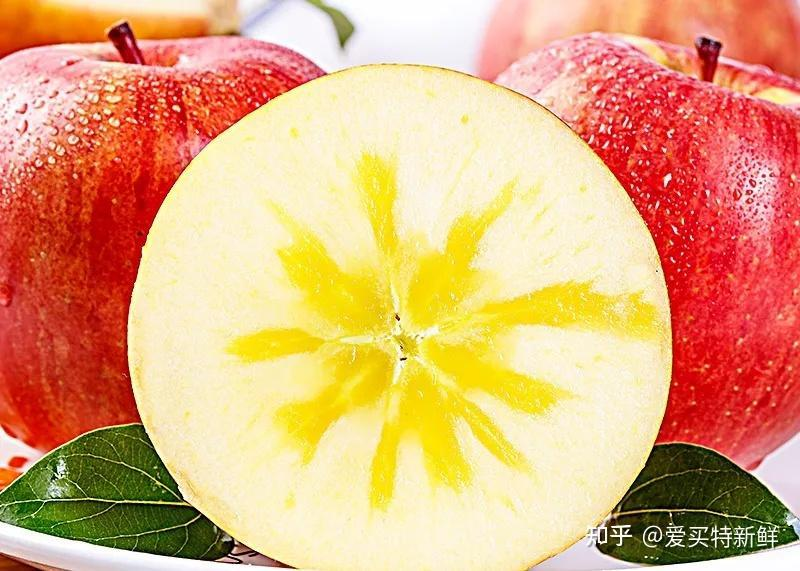apple: (4, 19, 322, 469), (488, 31, 800, 474)
